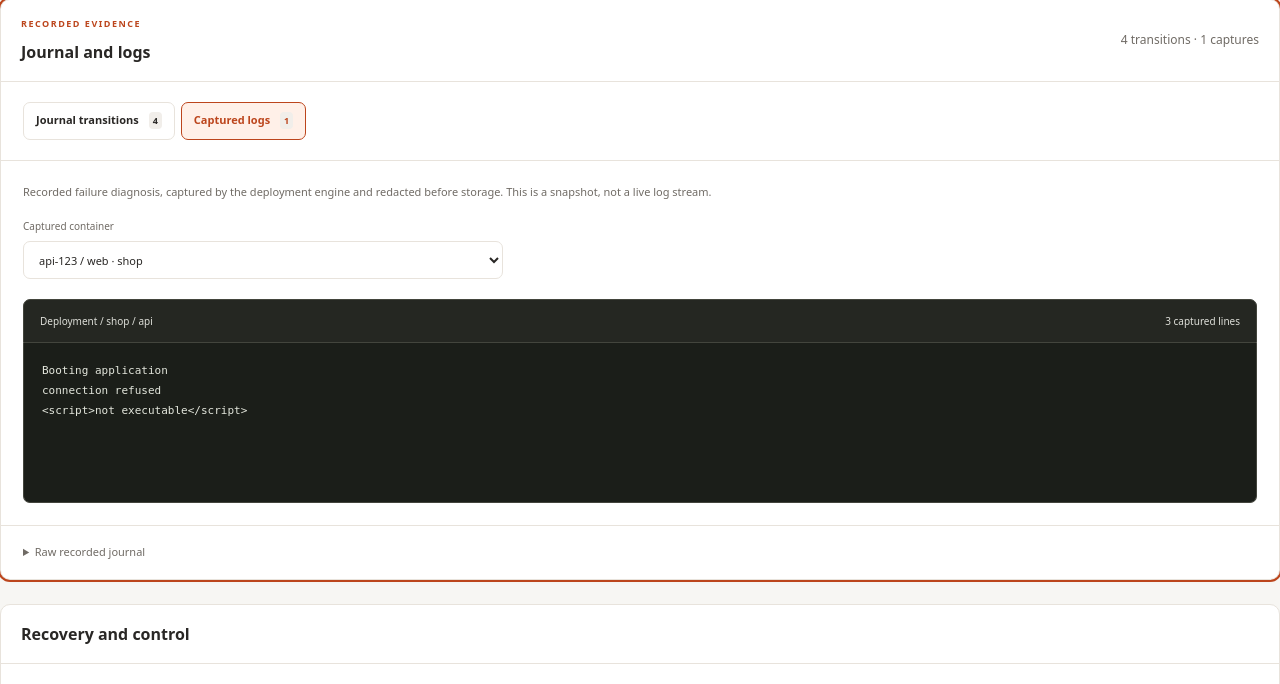
Test: opens captured logs directly from a bookmarked run URL and preserves the journal view in navigation
(page scrolled)
Check: the text named "Captured output for api-123 / web" shows "connection refused", box left=42, top=364, right=247, bottom=417
Click the button "Journal transitions 4" at (99, 121), box left=23, top=102, right=175, bottom=140
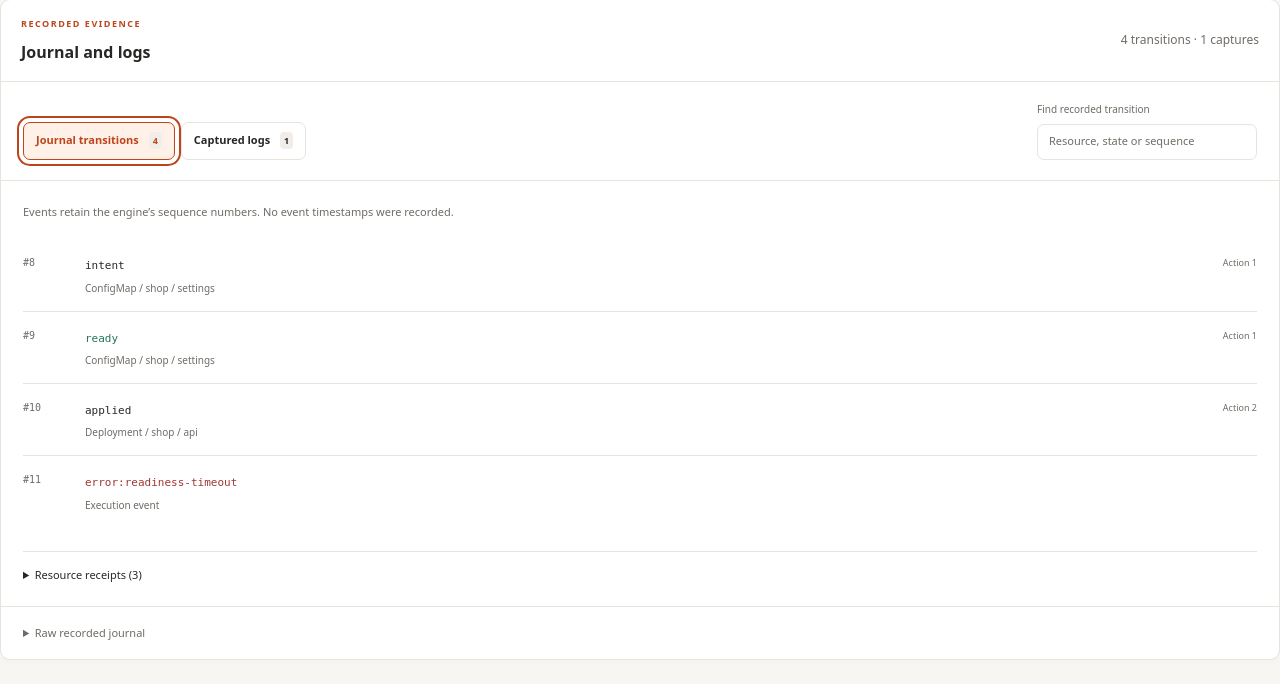
Check: the list named "Recorded journal transitions" is shown, box left=23, top=239, right=1257, bottom=527
